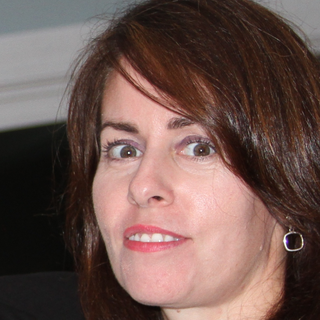eye: (176, 138, 222, 164), (106, 139, 147, 164)
